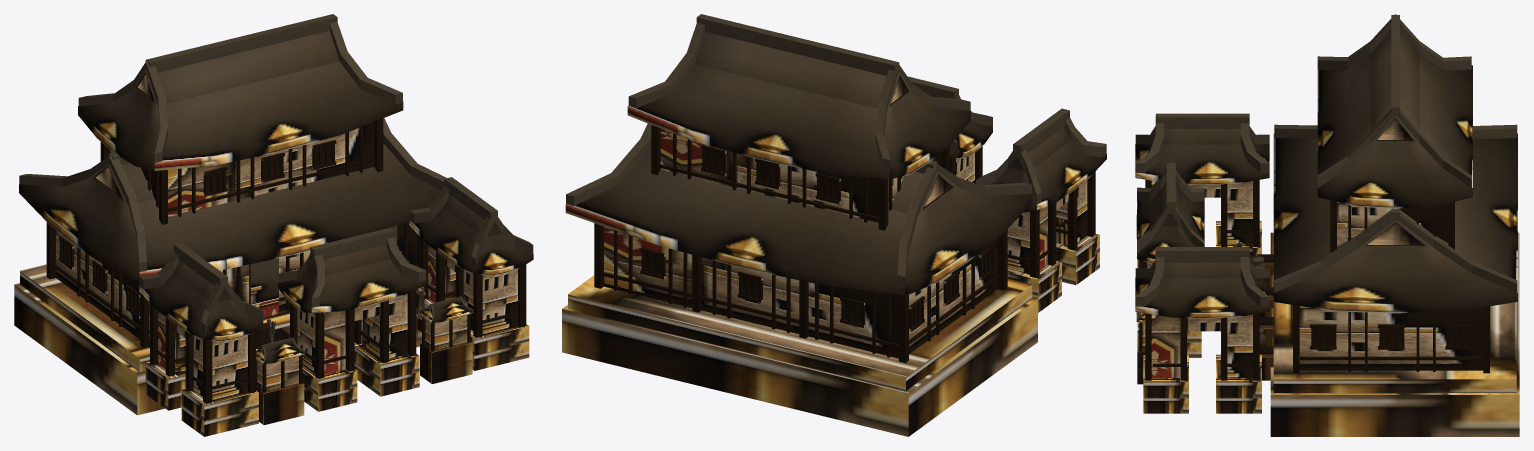
File: palace.dae
3 views of the same model, side by side, from view 1: azimuth 30°, elevation 25°; view 2: azimuth 150°, elevation 25°; view 3: azimuth 270°, elevation 25° (orthographic). The views are drawn at different scales.
Visible parts, largest first — view 1: palace; view 2: palace; view 3: palace.
Boxes of the visible parts, x1,y1,x2,y2 form: palace: (14,14,533,436); palace: (562,14,1106,436); palace: (1135,14,1519,436).
Size of the model in its own units: 25.7 by 25.6 by 21.71.
